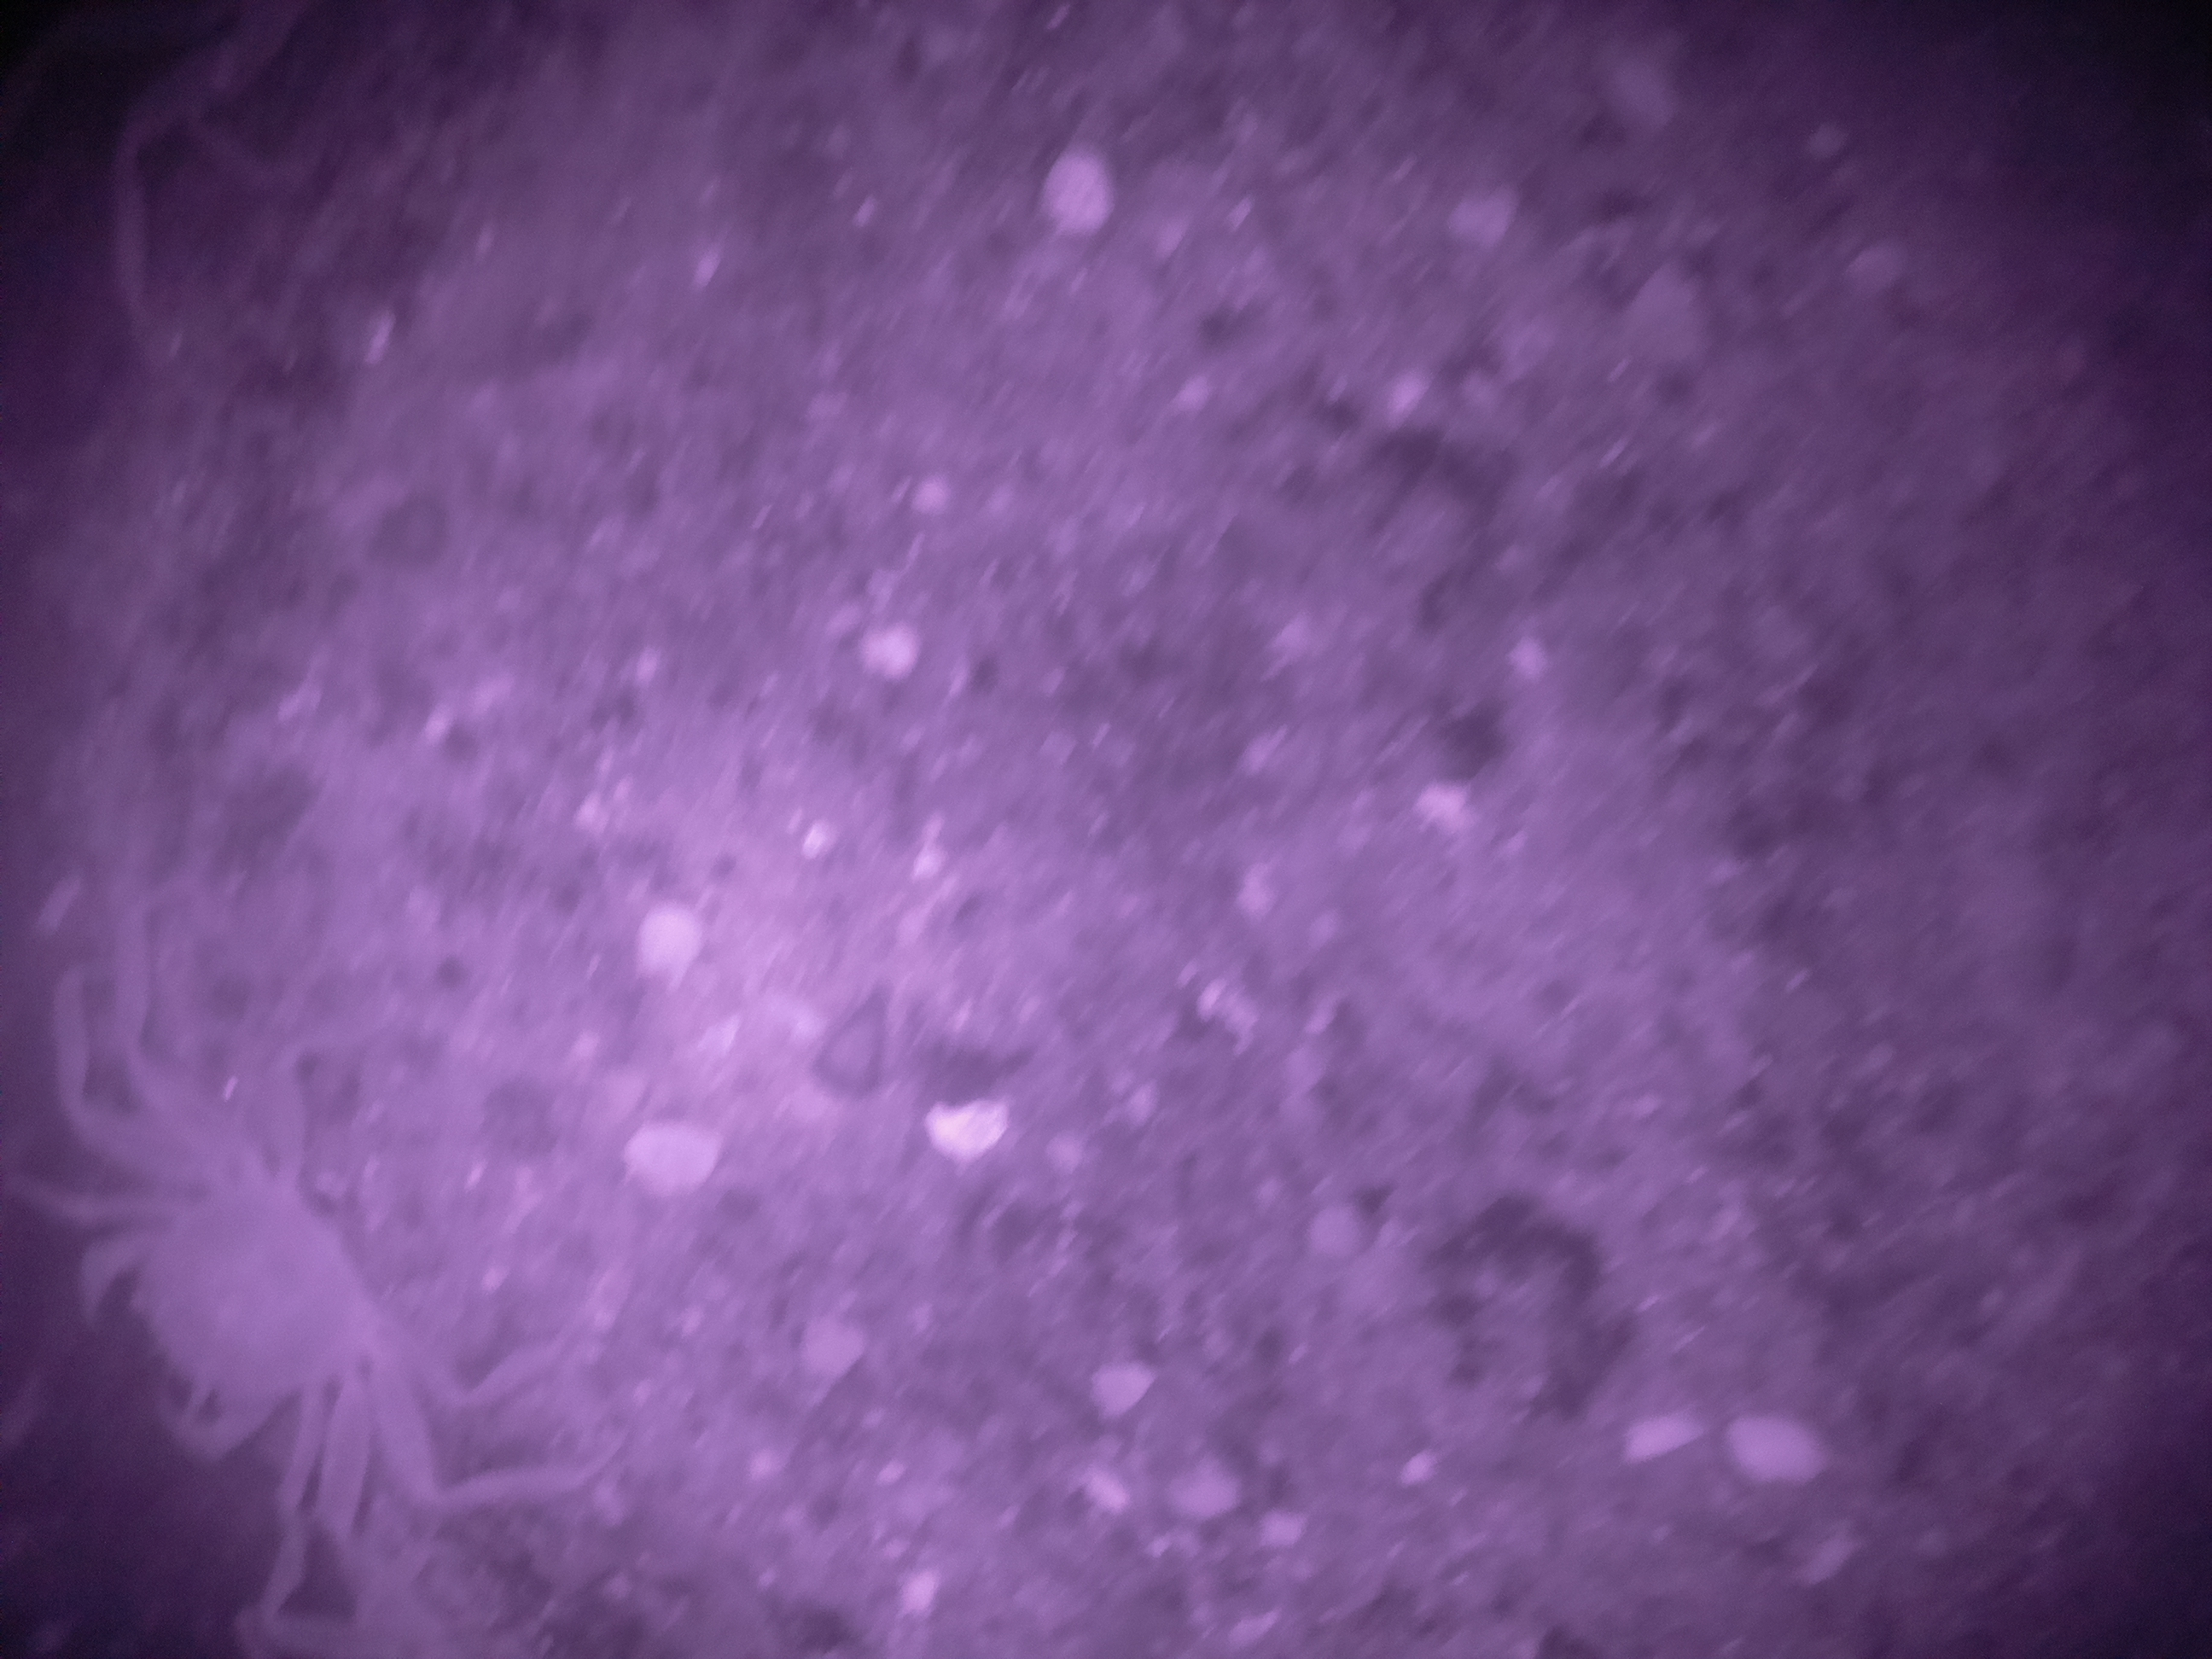Crab: (24, 1046, 514, 1499)
